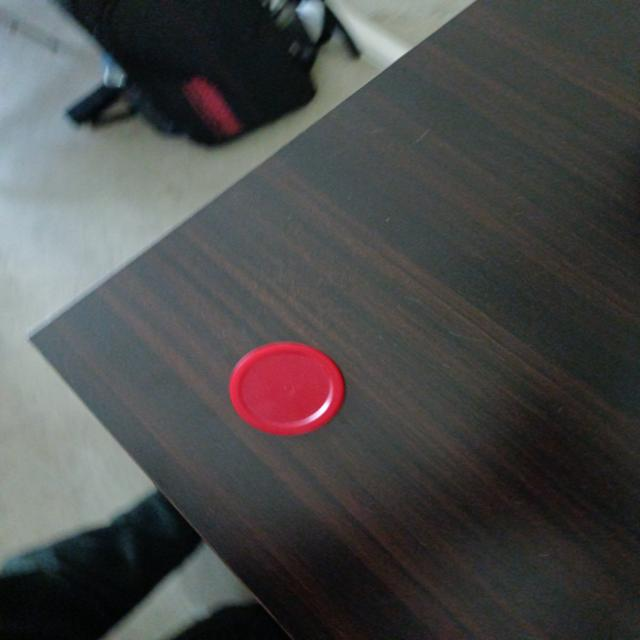chip: (223, 337, 349, 437)
